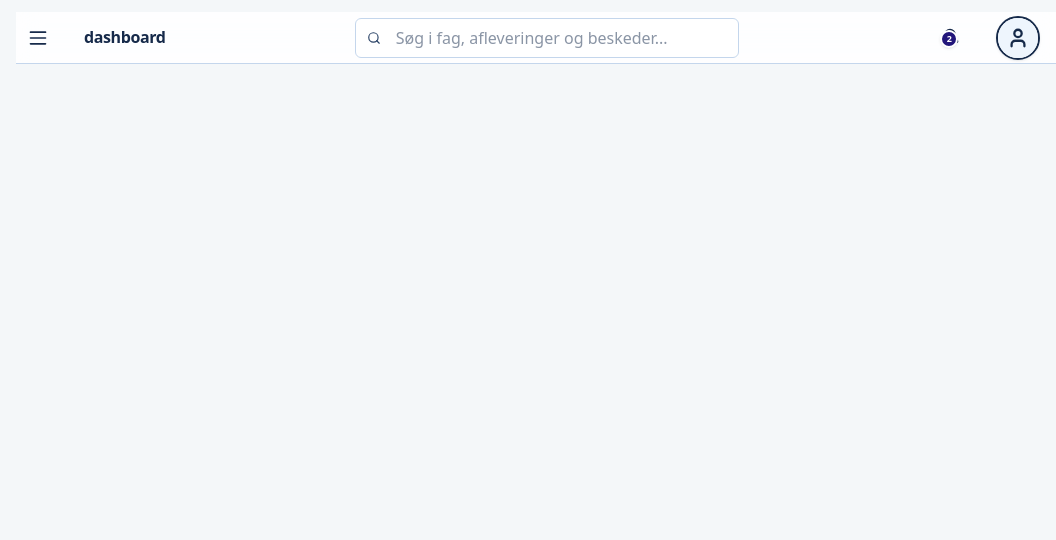
Test case: Topbar › opens notifications dropdown when bell is clicked
Click the button named "notifications".
click(950, 38)  # box [928, 16, 972, 60]
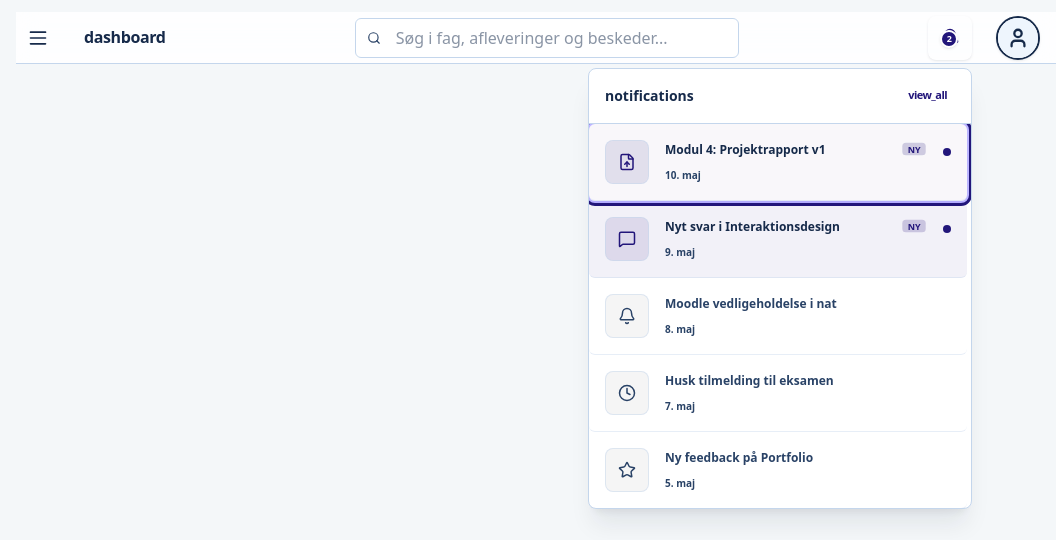
Expected: the text "view_all" is shown, [908, 88, 947, 103]
Expected: the text "Modul 4: Projektrapport v1" is shown, [665, 141, 826, 158]
